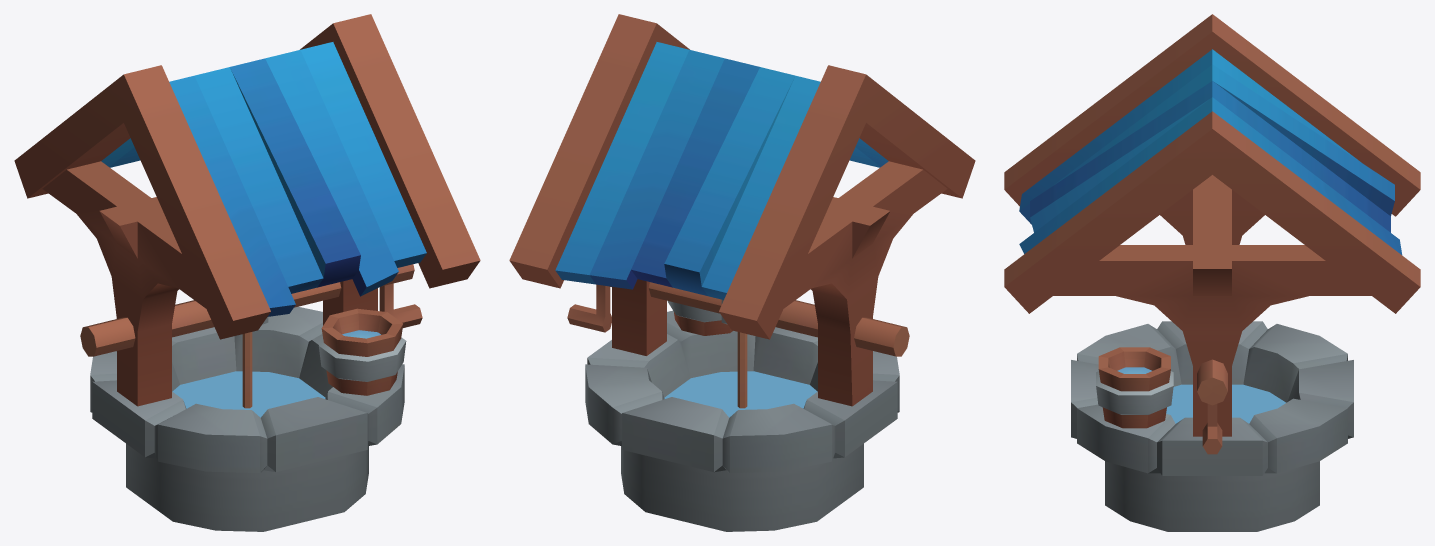
The model's file is well.glb.
3 renders of one model, left to right at view 1: azimuth 30°, elevation 25°; view 2: azimuth 150°, elevation 25°; view 3: azimuth 270°, elevation 25°, orthographic. The views are drawn at different scales.
Parts seen in each view (by area): view 1: building_well_blue; view 2: building_well_blue; view 3: building_well_blue.
Boxes of the visible parts, x1,y1,x2,y2 form: building_well_blue: (14,14,480,531); building_well_blue: (509,14,975,531); building_well_blue: (1004,14,1420,531).
Size of the model in its own units: 0.6518 by 0.826 by 0.7507.
1 material, 1 textured.
